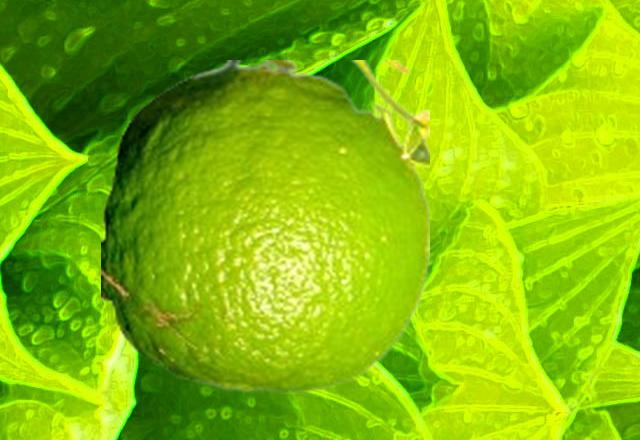dalandan: (101, 60, 428, 392)
